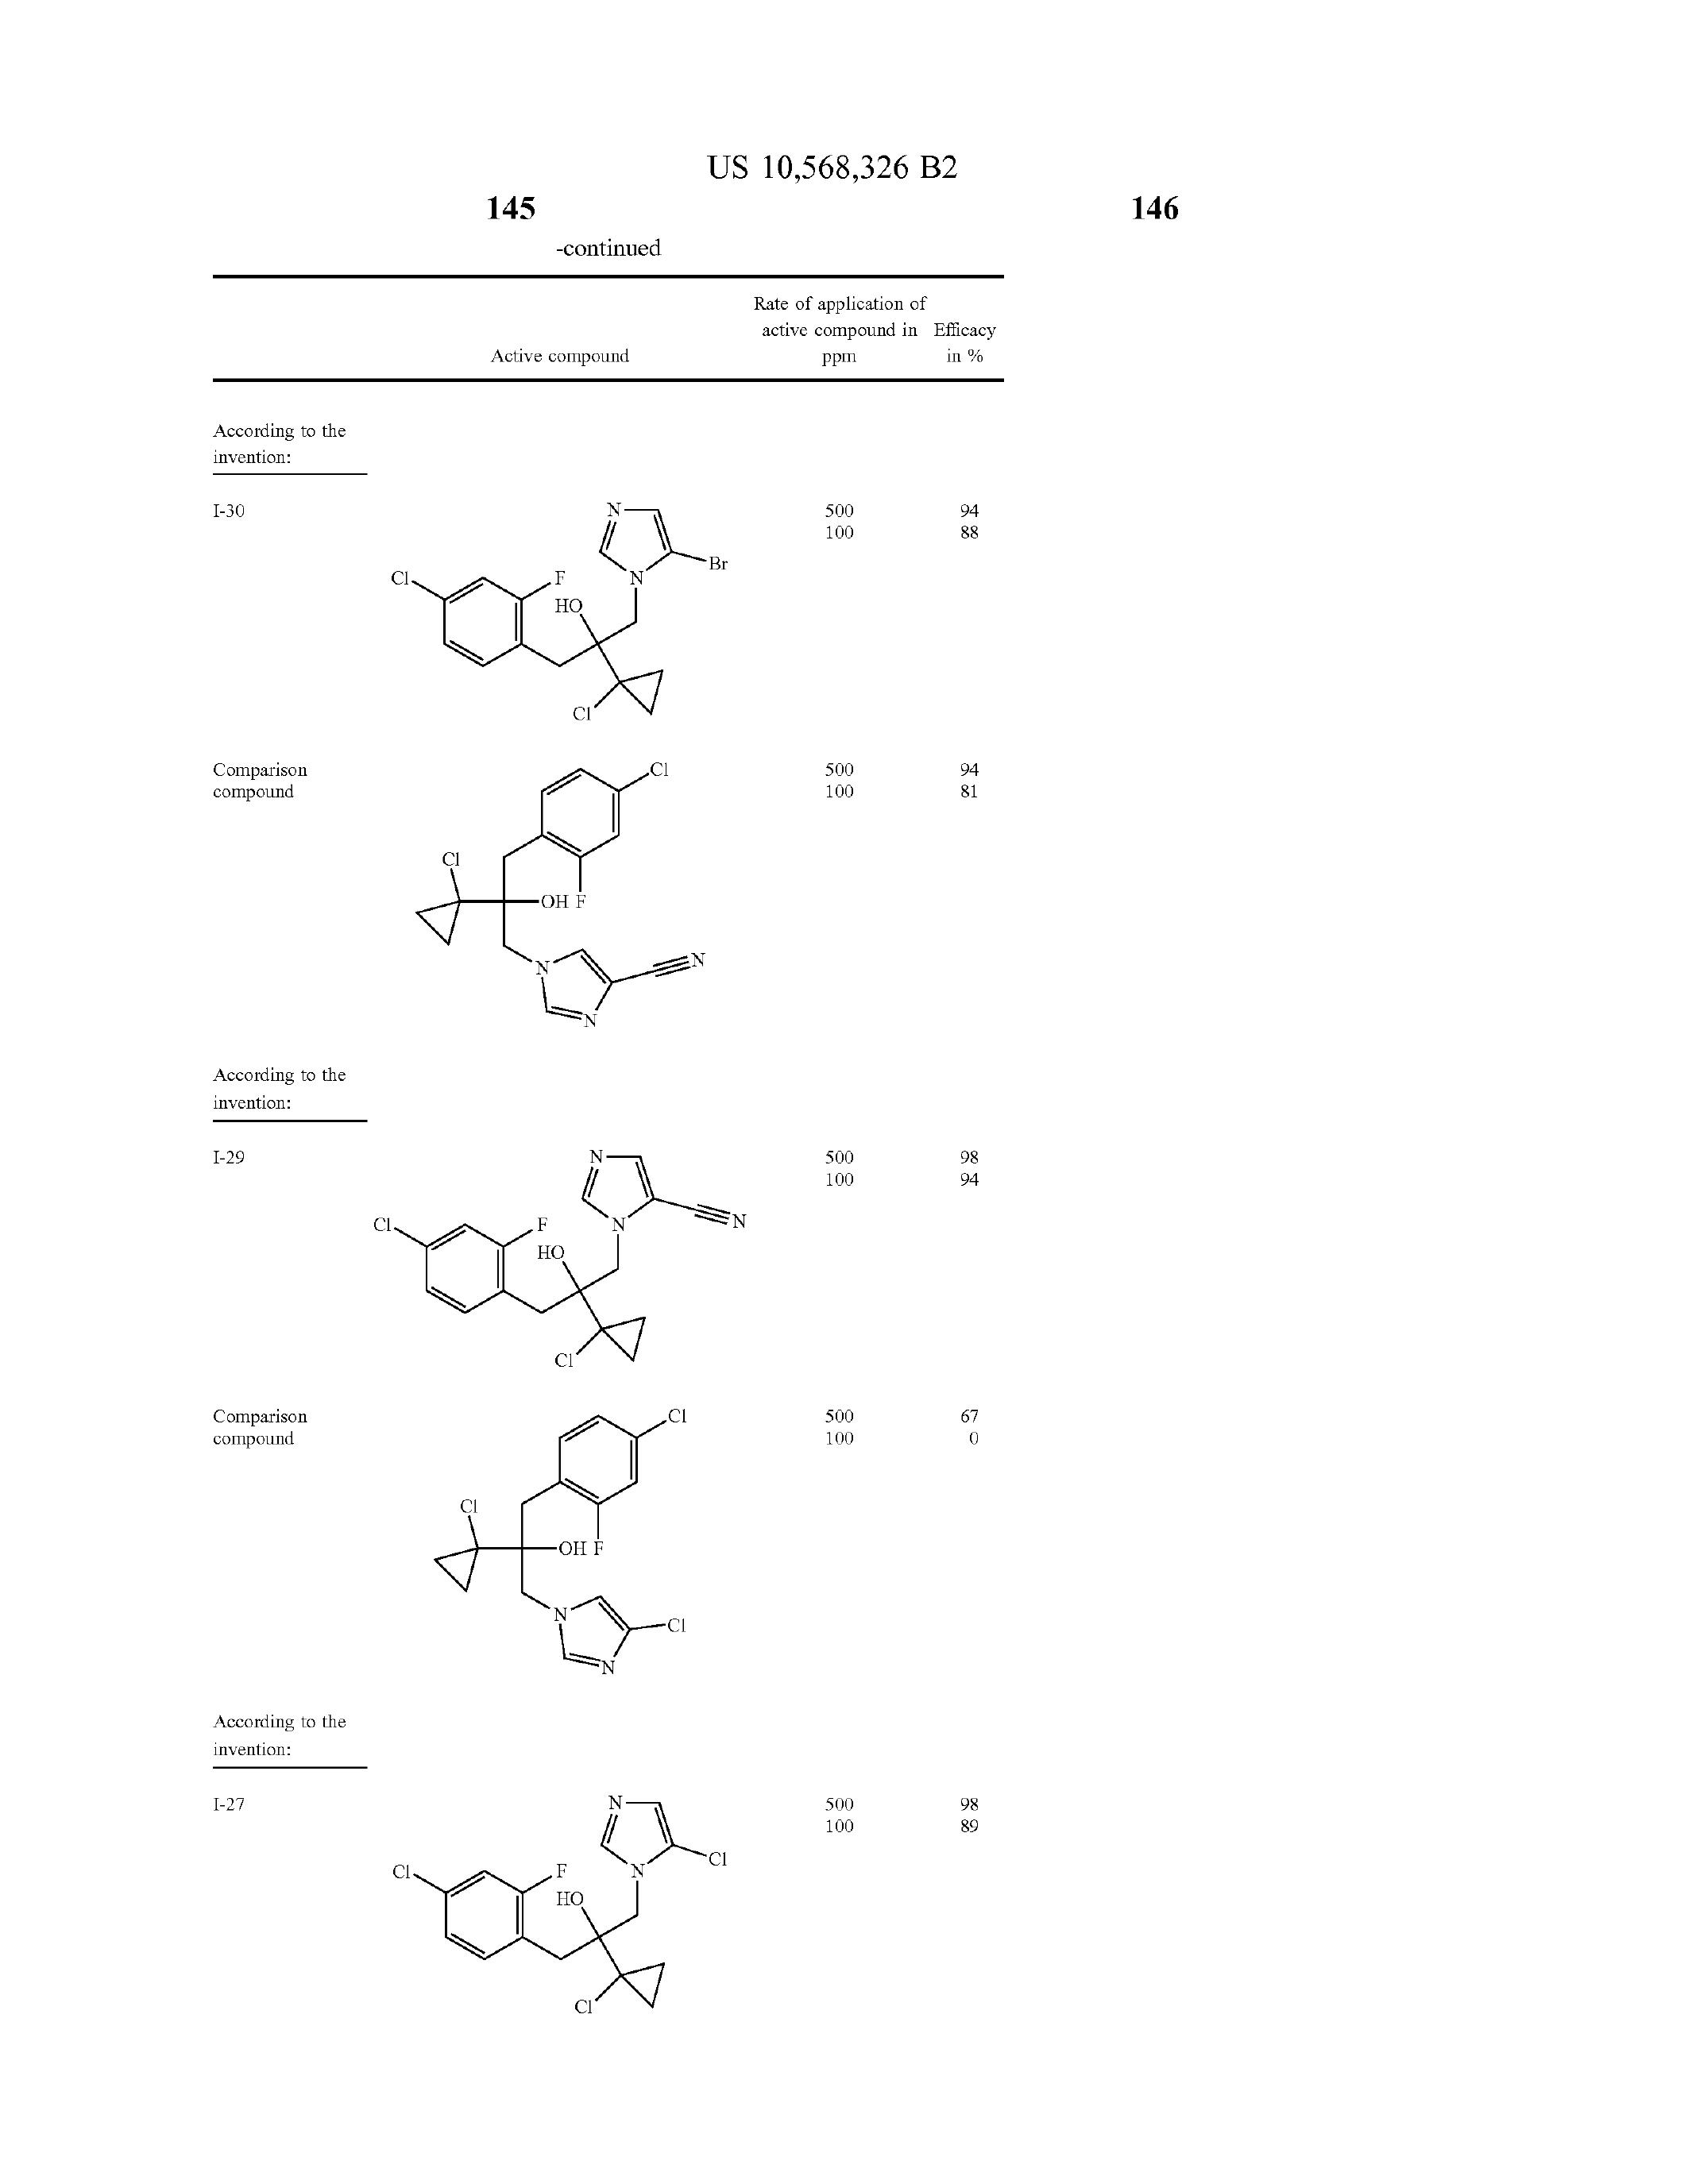relevant-structures: (367, 1757, 830, 2131), (372, 1386, 824, 1723), (346, 1122, 794, 1383), (367, 452, 750, 746), (378, 759, 764, 1046)
